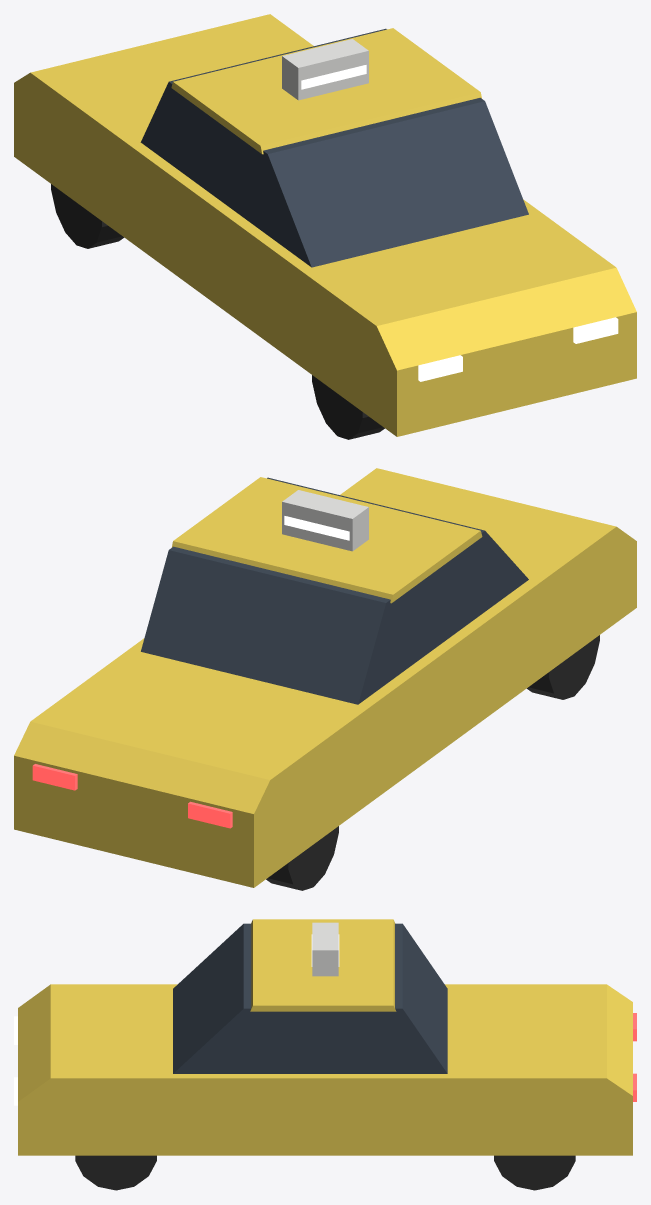
The model's file is taxi.glb.
3 views of the same model, one above another, from view 1: azimuth 30°, elevation 25°; view 2: azimuth 150°, elevation 25°; view 3: azimuth 270°, elevation 25° (orthographic). The views are drawn at different scales.
Visible parts, largest first — view 1: taxi; view 2: taxi; view 3: taxi.
Part boxes in pixels (x1,y1,x2,y2): taxi: (14,14,636,439); taxi: (14,468,636,890); taxi: (14,919,636,1190).
Size of the model in its own units: 1.7 by 1.75 by 4.76.
